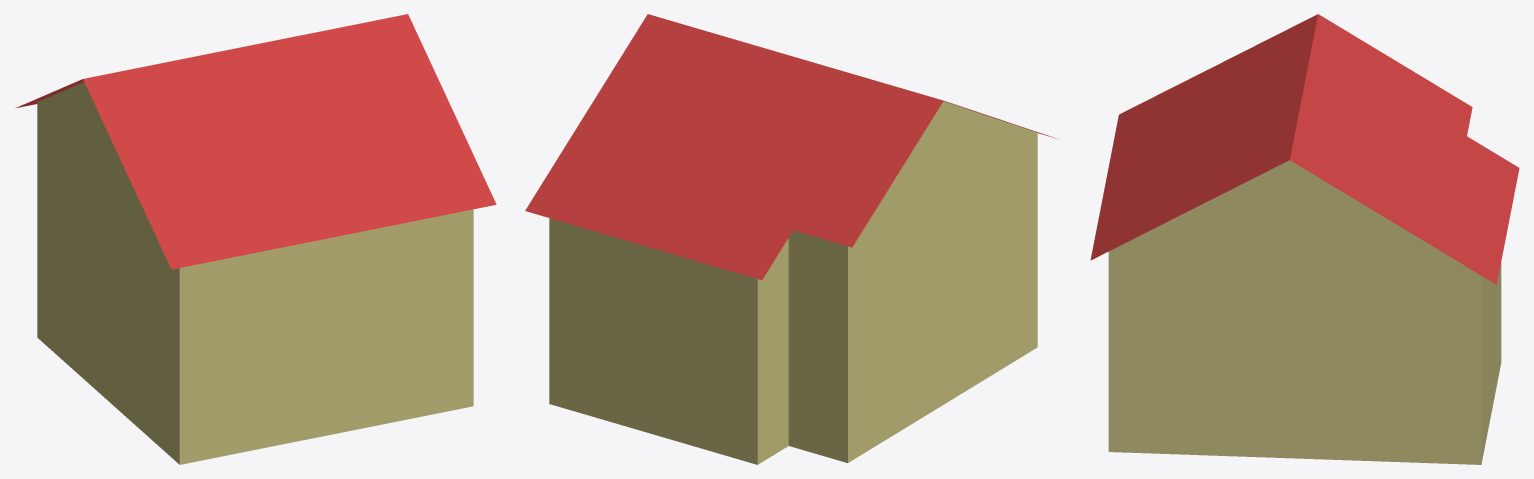
The picture shows the model from 3 angles, left to right: view 1: azimuth 30°, elevation 25°; view 2: azimuth 150°, elevation 25°; view 3: azimuth 270°, elevation 25°; orthographic projection. The views are drawn at different scales.
Bounding box in the file's own units: 11.31 × 12.8 × 10.05.
